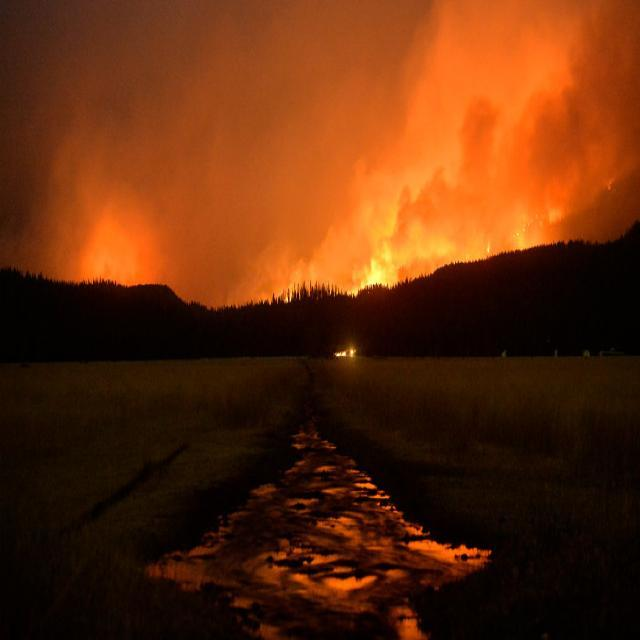Fire: (335, 14, 576, 229), (199, 182, 440, 310), (73, 212, 169, 318), (491, 193, 584, 291), (358, 218, 459, 299)
Smoke: (9, 14, 289, 162)
